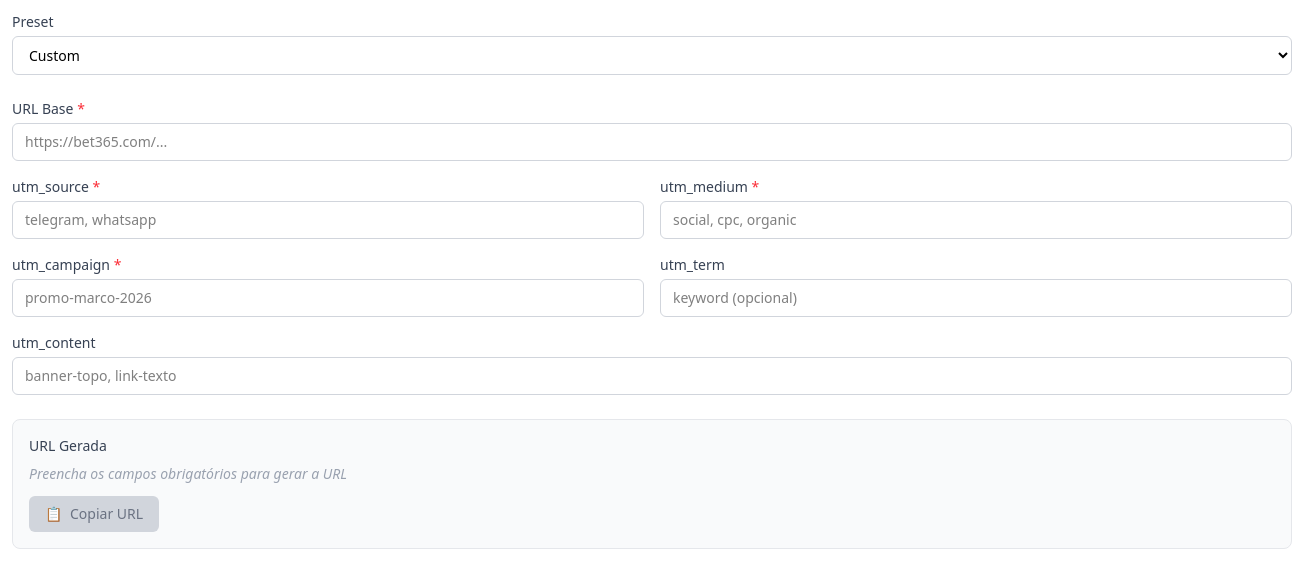
Test: UtmBuilder › fills source and medium when selecting a preset
This screenshot has width=1304, height=566.
Select "Telegram Post" in the dropdown at (652,56), box [12,36,1292,75]
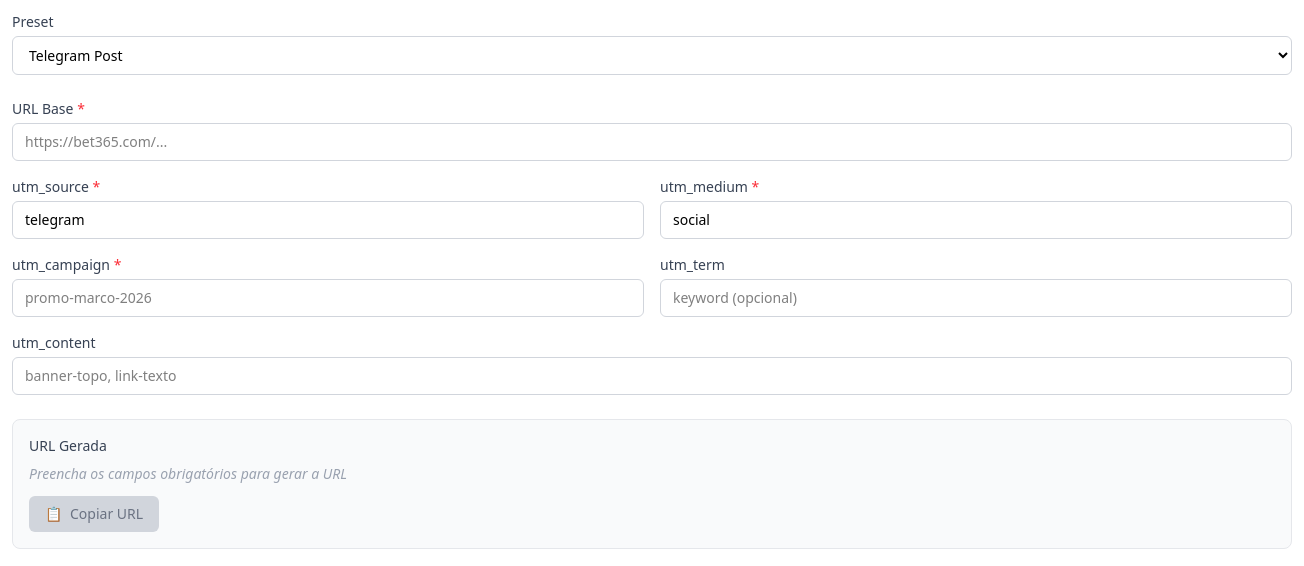
Now the field with placeholder "telegram, whatsapp" below "utm_source" holds "telegram", box [12,201,644,239]
Now the field with placeholder "social, cpc, organic" below "utm_medium" holds "social", box [660,201,1292,239]
